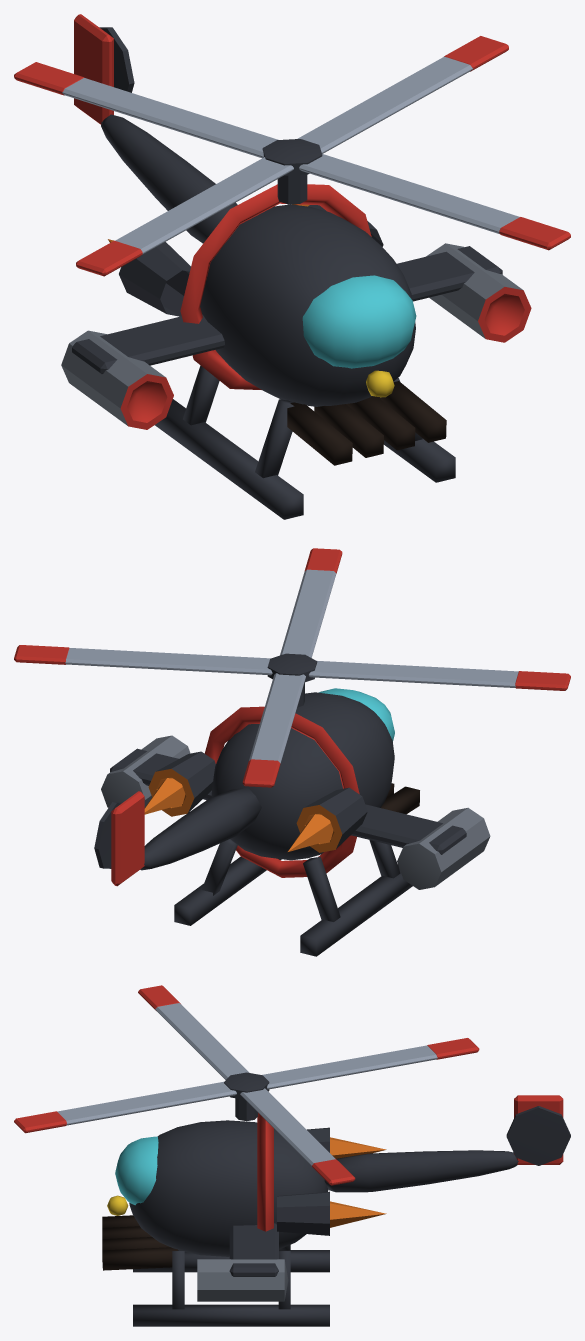
3 renders of one model, top to bottom at view 1: azimuth 30°, elevation 25°; view 2: azimuth 150°, elevation 25°; view 3: azimuth 270°, elevation 25°, orthographic. The views are drawn at different scales.
Parts seen in each view (by area): view 1: heli_0_base, heli_1_torreta; view 2: heli_0_base, heli_1_torreta; view 3: heli_0_base, heli_1_torreta.
Boxes of the visible parts, box(x1,y1,x2,y2) form: heli_0_base: box(61, 14, 531, 519); heli_1_torreta: box(14, 36, 570, 276); heli_0_base: box(94, 688, 490, 956); heli_1_torreta: box(14, 548, 570, 787); heli_0_base: box(102, 1095, 570, 1326); heli_1_torreta: box(14, 985, 479, 1185).
Bounding box in the file's own units: 1.23 × 0.632 × 1.47.
